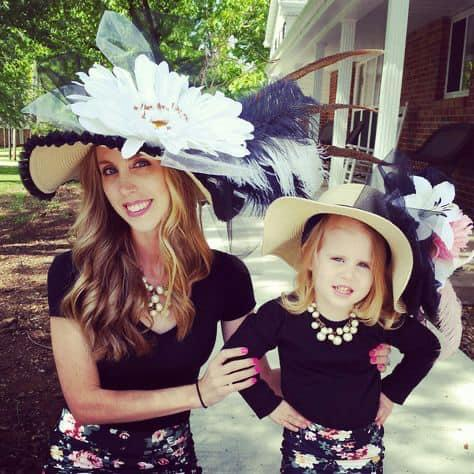Person: (29, 28, 269, 468), (218, 188, 444, 474)
